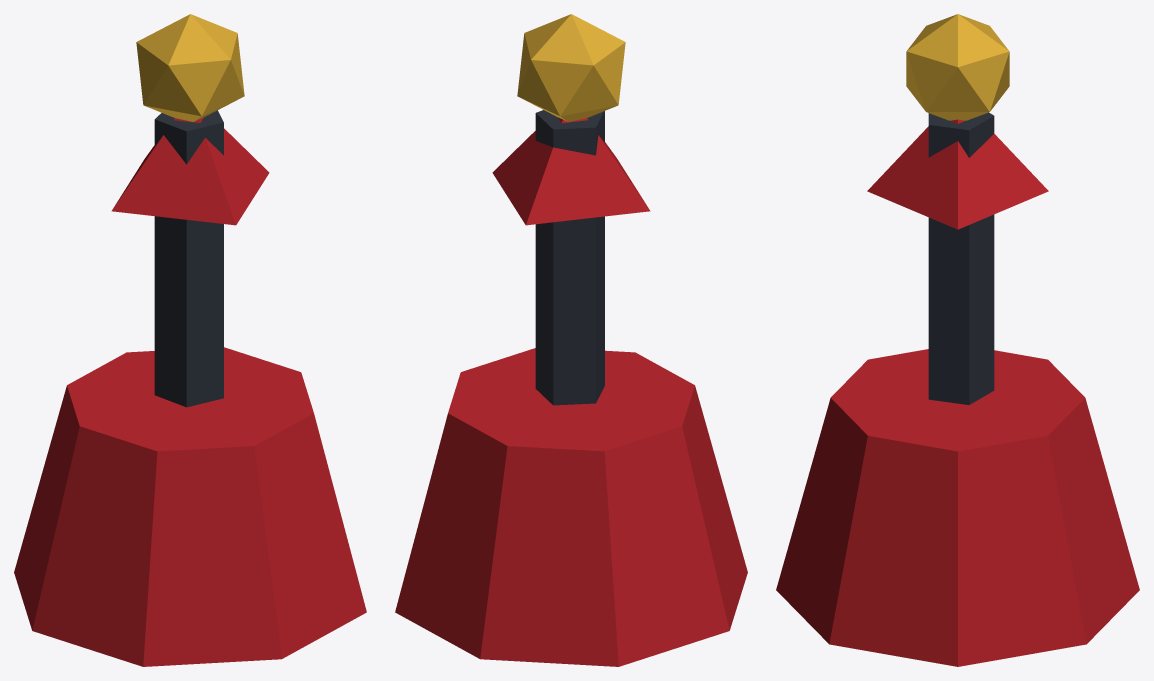
Rendered from buoy.glb.
The picture shows the model from 3 angles, left to right: view 1: azimuth 30°, elevation 25°; view 2: azimuth 150°, elevation 25°; view 3: azimuth 270°, elevation 25°; orthographic projection.
Visible parts, largest first — view 1: buoy; view 2: buoy; view 3: buoy.
Part boxes in pixels (x1,y1,x2,y2): buoy: [14, 14, 366, 666]; buoy: [395, 14, 747, 666]; buoy: [776, 14, 1139, 666].
Bounding box in the file's own units: 1.62 × 2.83 × 1.62.
